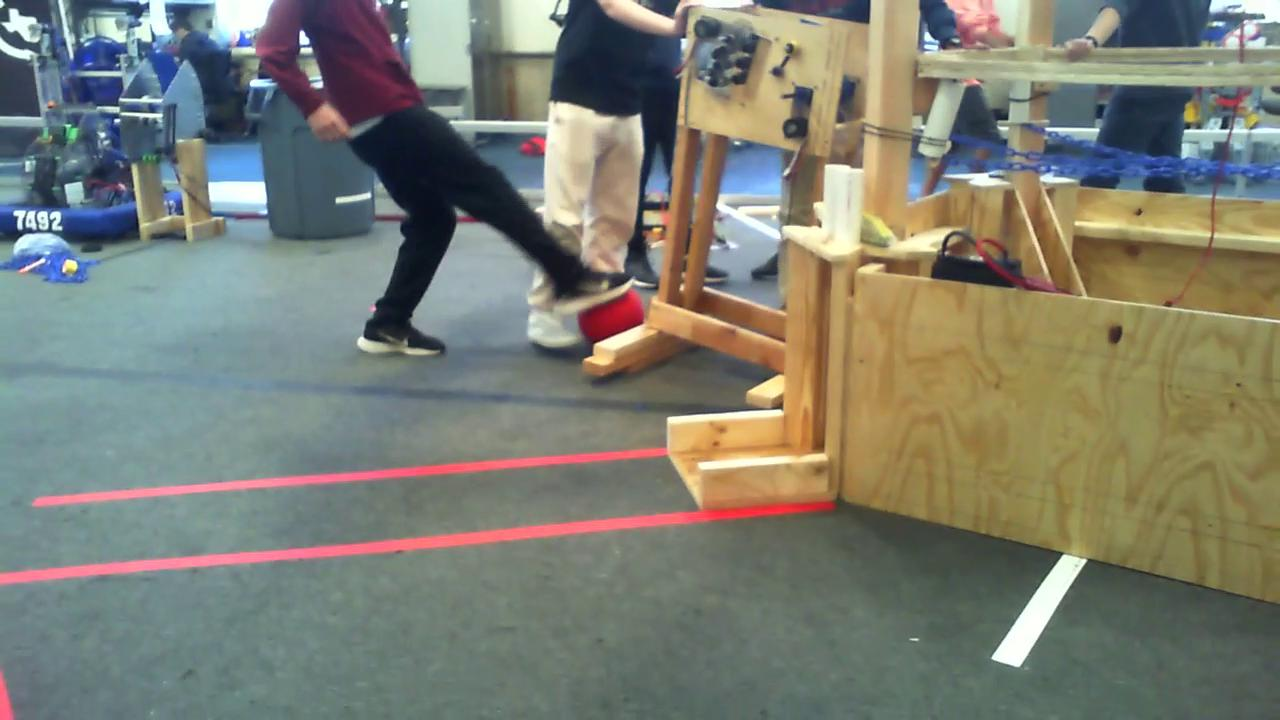Red_Ball: (578, 286, 646, 347)
